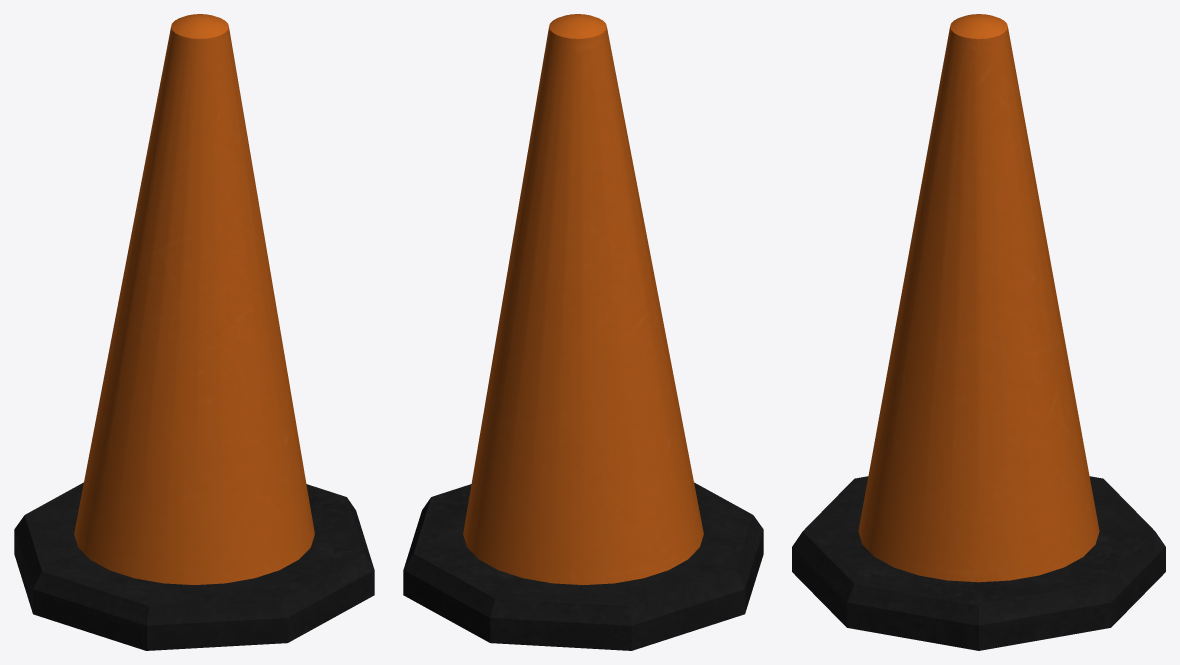
The model's file is traffic-cone-6.glb.
3 renders of one model, left to right at view 1: azimuth 30°, elevation 25°; view 2: azimuth 150°, elevation 25°; view 3: azimuth 270°, elevation 25°, orthographic.
Visible parts, largest first — view 1: Object_88; view 2: Object_88; view 3: Object_88.
Boxes of the visible parts, box(x1,y1,x2,y2) form: Object_88: box(14, 14, 374, 650); Object_88: box(403, 14, 763, 650); Object_88: box(792, 14, 1165, 650).
Bounding box in the file's own units: 0.4142 × 0.6793 × 0.4142.
Materials: 1 (1 with a texture image).
